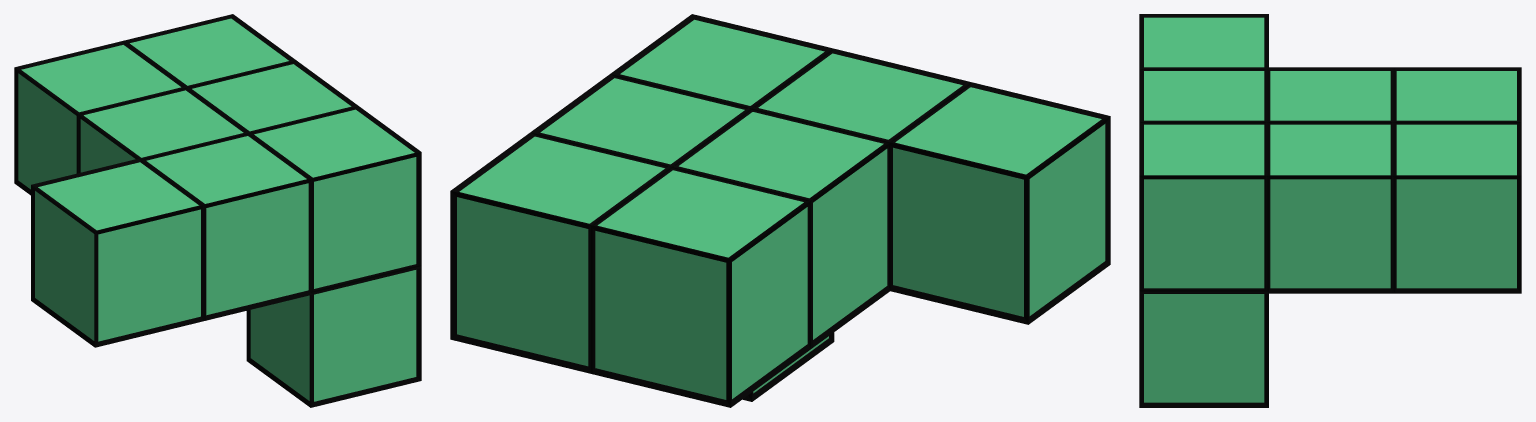
The picture shows the model from 3 angles, left to right: view 1: azimuth 30°, elevation 25°; view 2: azimuth 150°, elevation 25°; view 3: azimuth 270°, elevation 25°; orthographic projection. The views are drawn at different scales.
Parts seen in each view (by area): view 1: c4:Mesh; view 2: c4:Mesh; view 3: c4:Mesh.
Boxes of the visible parts, x1=… form: c4:Mesh: x1=14, y1=14, x2=421, y2=407; c4:Mesh: x1=450, y1=14, x2=1110, y2=407; c4:Mesh: x1=1139, y1=14, x2=1521, y2=407.
Bounding box in the file's own units: 6.06 × 4.06 × 6.06.
